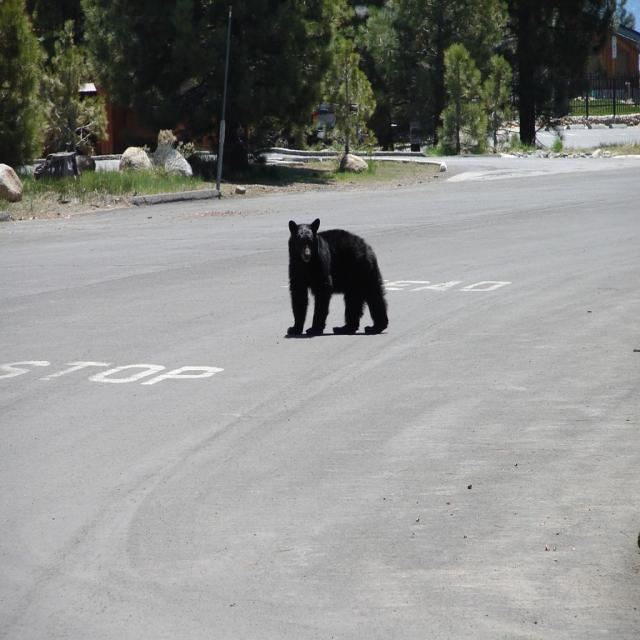Buffalo: (286, 218, 389, 338)
